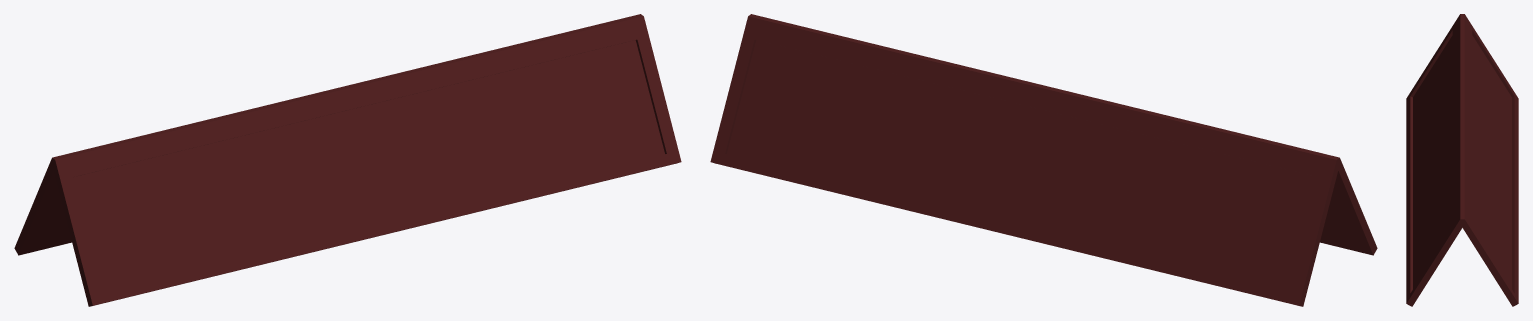
File: Rest_Set10_TableCard_Folded_v01.fbx
3 views of the same model, side by side, from view 1: azimuth 30°, elevation 25°; view 2: azimuth 150°, elevation 25°; view 3: azimuth 270°, elevation 25° (orthographic). The views are drawn at different scales.
Visible parts, largest first — view 1: Rest_Set10_TableCard_Folded; view 2: Rest_Set10_TableCard_Folded; view 3: Rest_Set10_TableCard_Folded.
Boxes of the visible parts, bbox=[...] form: Rest_Set10_TableCard_Folded: bbox=[14, 14, 681, 306]; Rest_Set10_TableCard_Folded: bbox=[710, 14, 1377, 306]; Rest_Set10_TableCard_Folded: bbox=[1406, 14, 1518, 306].
Bounding box in the file's own units: 10.98 × 2.18 × 2.53.
